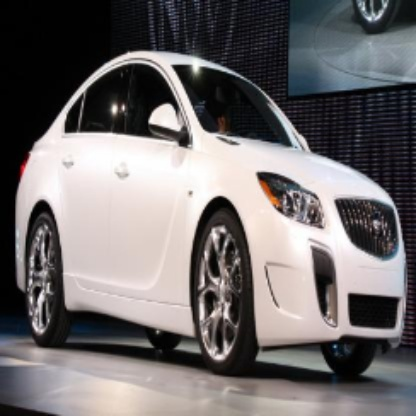Vehicle: (16, 49, 408, 372)
